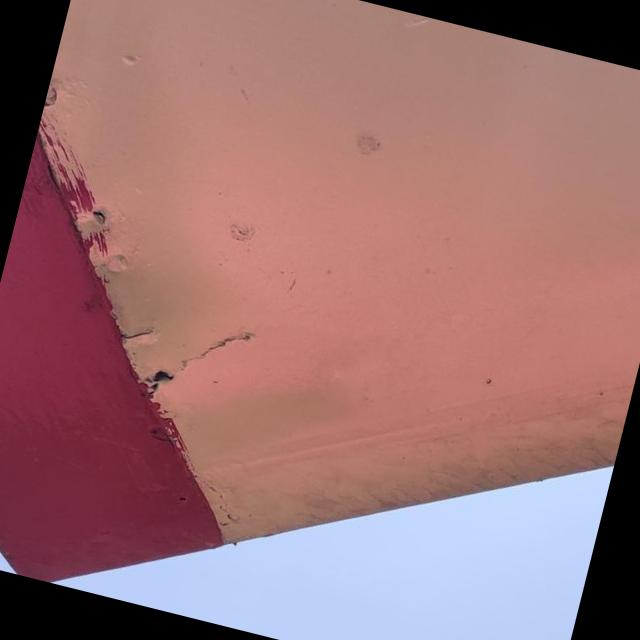Crack: (180, 332, 253, 371), (121, 327, 159, 350), (141, 370, 174, 396)
